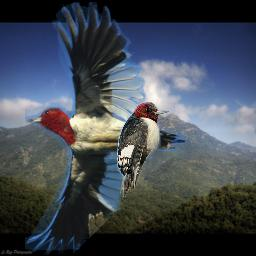Woodpecker: (25, 2, 187, 255), (117, 102, 169, 198)
